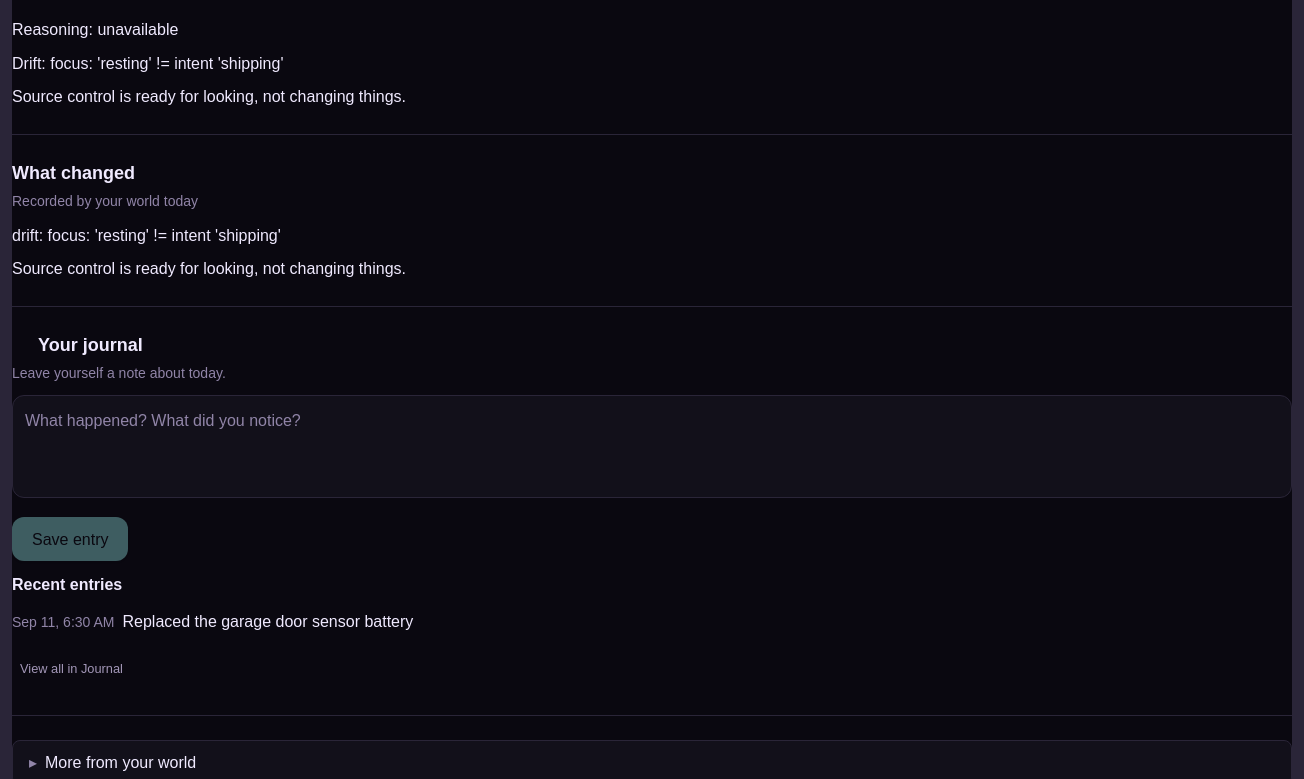
Test: TodayScreen (T10, parity rows 1–3) › services launcher renders saved services from /api/apps
This screenshot has width=1304, height=779.
(page scrolled)
Open "More from your world" disclosure to reach the launcher.
What coordinates should you click on to do the following:
click the text "More from your world"
I would click on:
 (121, 763)
Its box is [45, 750, 196, 776].
(page scrolled)
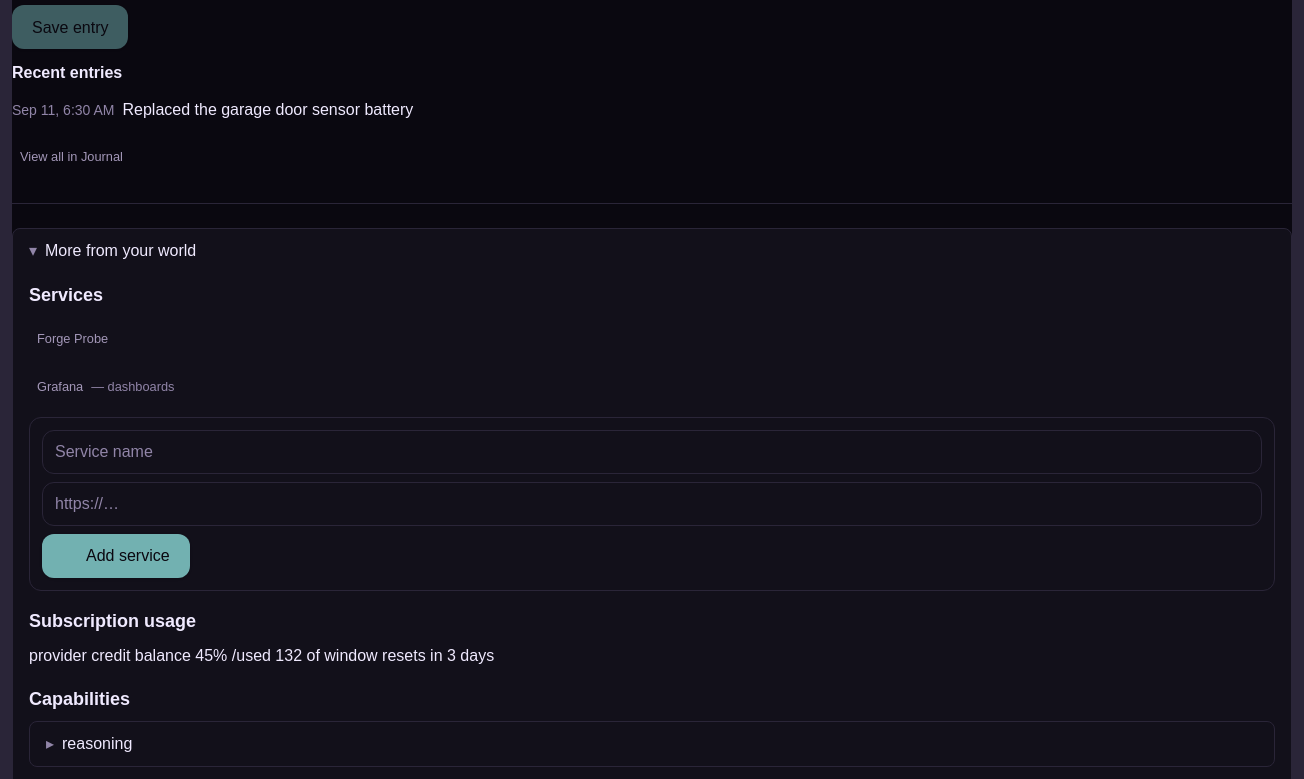
expect the link "Forge Probe" is shown: met, box [37, 331, 108, 346]
expect the link "Grafana — dashboards" is shown: met, box [37, 379, 174, 394]
